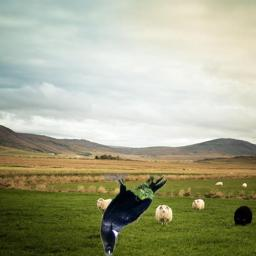Crow: (99, 173, 168, 256)
